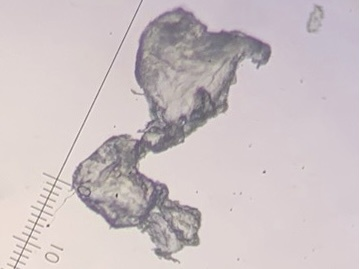microplastic: (70, 7, 271, 264)
